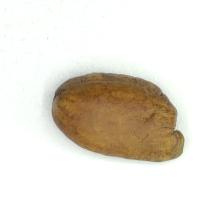NG: (158, 91, 185, 164)
